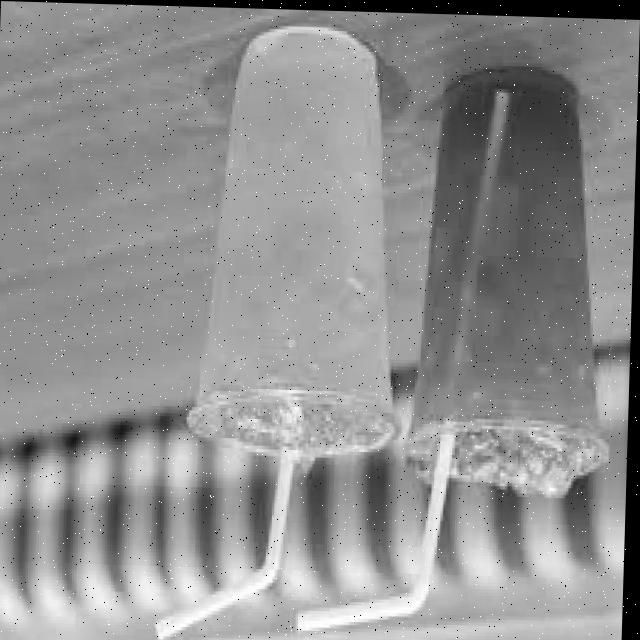cup: (163, 4, 419, 498), (399, 44, 624, 508)
